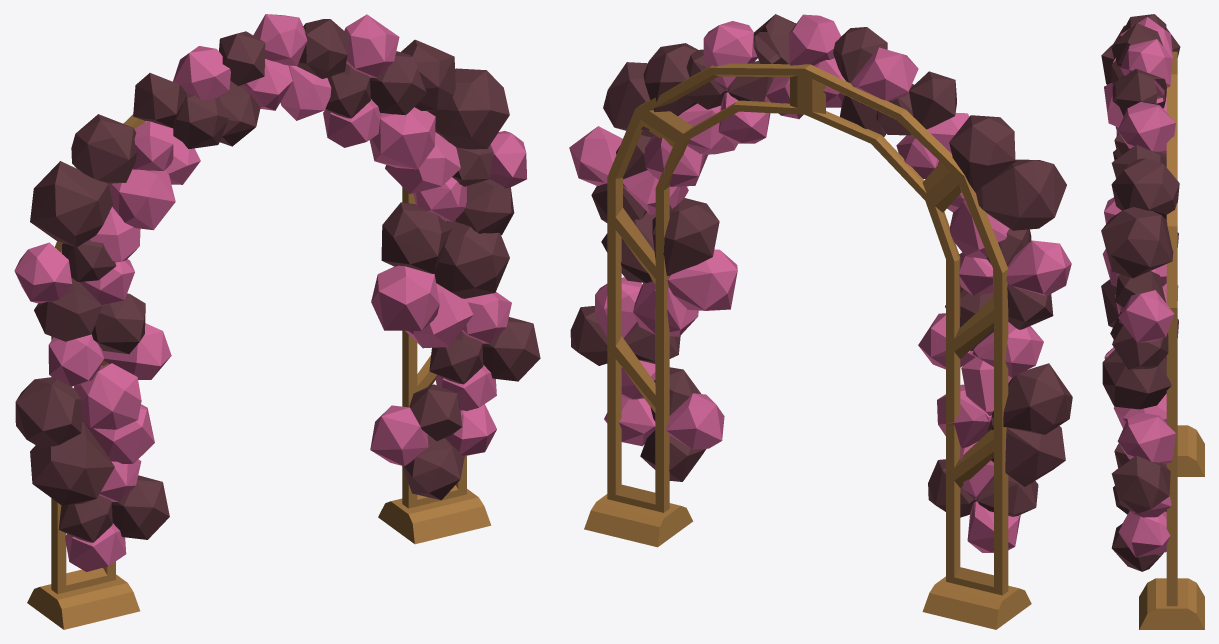
File: wedding-arch-big-balloons.fbx
3 views of the same model, side by side, from view 1: azimuth 30°, elevation 25°; view 2: azimuth 150°, elevation 25°; view 3: azimuth 270°, elevation 25° (orthographic). The views are drawn at different scales.
Visible parts, largest first — view 1: wedding-arch-big-balloons; view 2: wedding-arch-big-balloons; view 3: wedding-arch-big-balloons.
Part boxes in pixels (<box>): wedding-arch-big-balloons: <box>14,14,540,629</box>; wedding-arch-big-balloons: <box>569,14,1072,629</box>; wedding-arch-big-balloons: <box>1101,14,1204,629</box>.
Bounding box in the file's own units: 2.65 × 2.75 × 0.5209.
